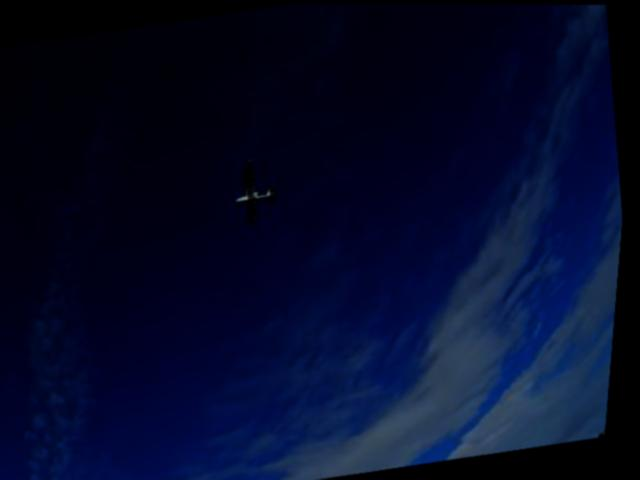uav: (218, 144, 295, 235)
